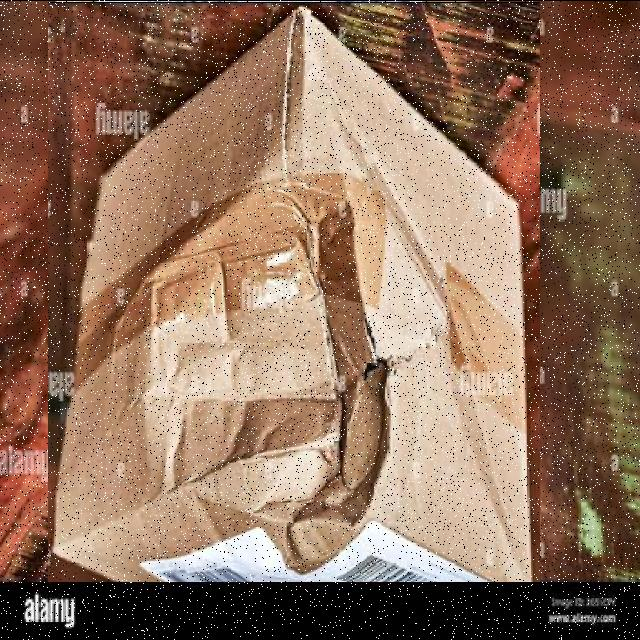defect: (48, 1, 540, 582)
